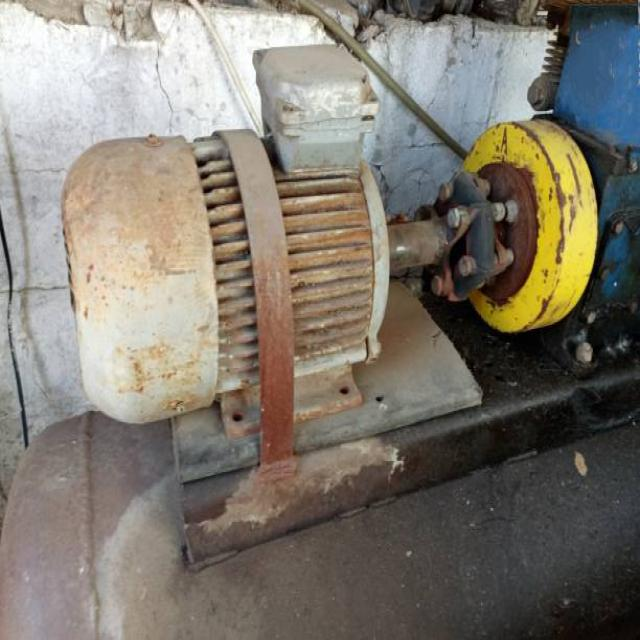compressor: (59, 40, 600, 464)
corrosion detected: (58, 122, 392, 437), (431, 115, 600, 338), (426, 165, 520, 307)
